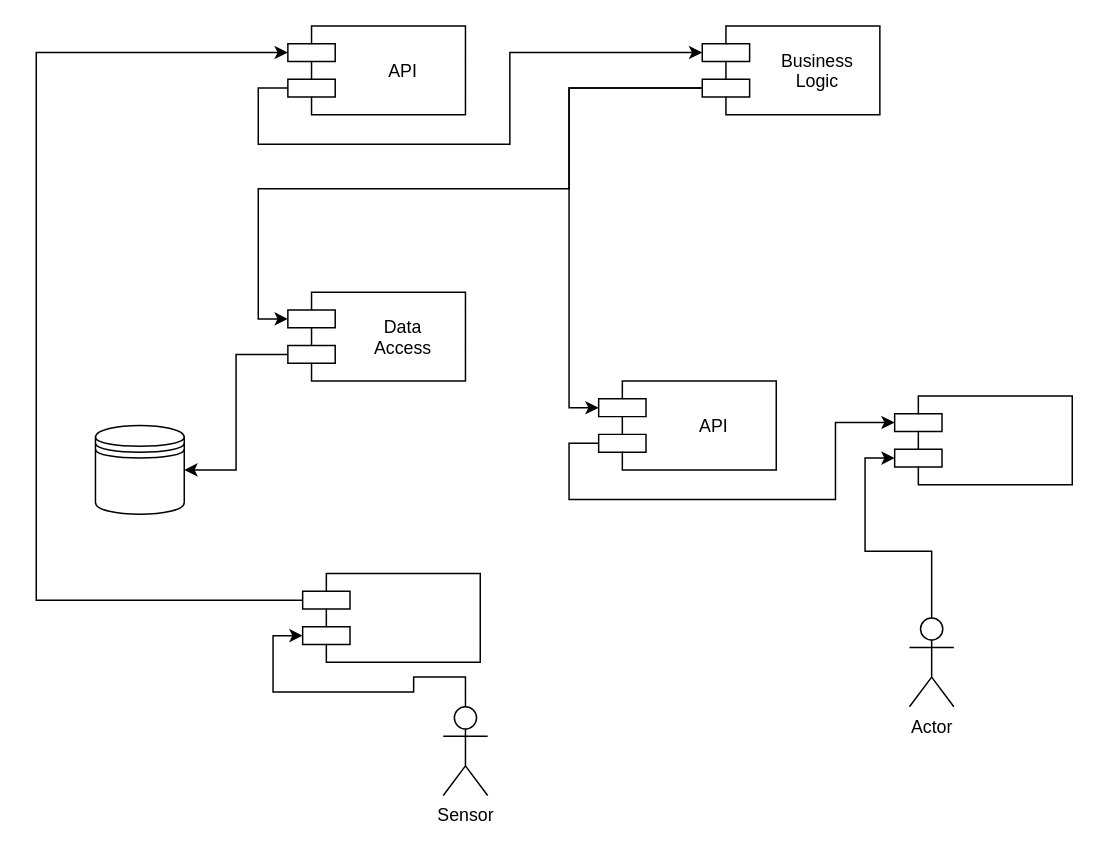
Some shapes in this 1098 by 852 pixel diagram are drawn without their labels. Each missing label, with the centre of its shape:
"DB" belongs at [139,469].
"Telemetry Service" belongs at [390,617].
"UI" belongs at [982,439].
